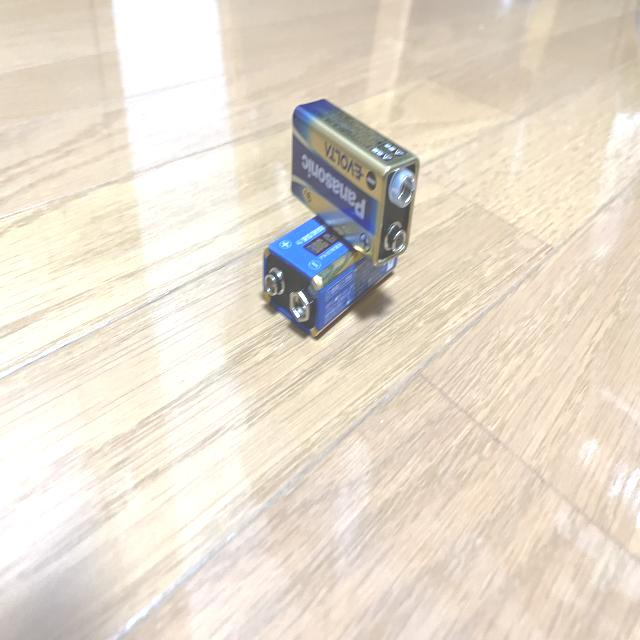9V: (290, 96, 420, 265), (262, 214, 395, 341)
